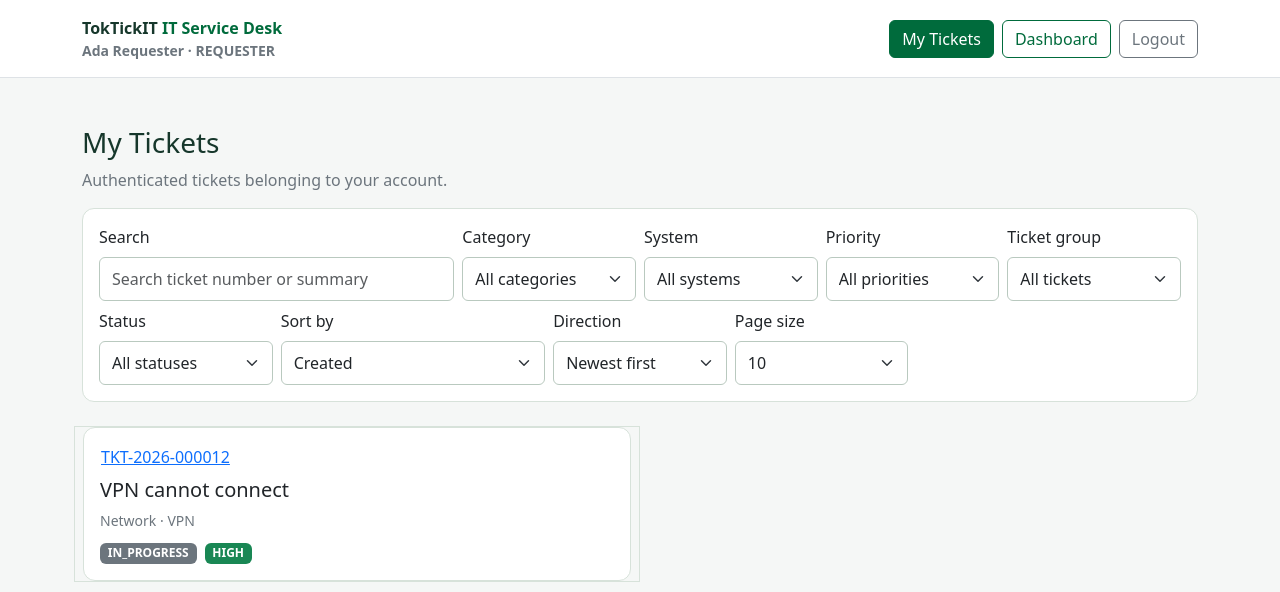
Test case: Lab 3 Requester interactions › records the resolution signal and shows the resulting state
The width and height of the screenshot is (1280, 592).
Click the button with aria-label "Open ticket TKT-2026-000012": (165, 457) [100, 444, 231, 470]
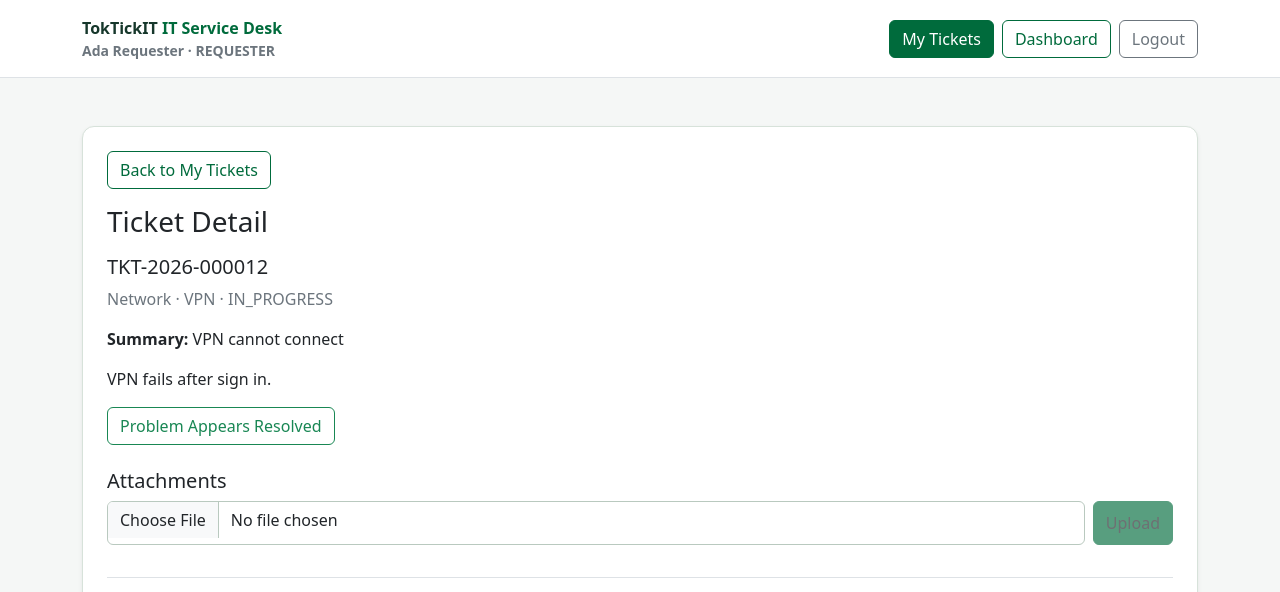
Click the button "Problem Appears Resolved": (221, 426) [107, 407, 334, 445]
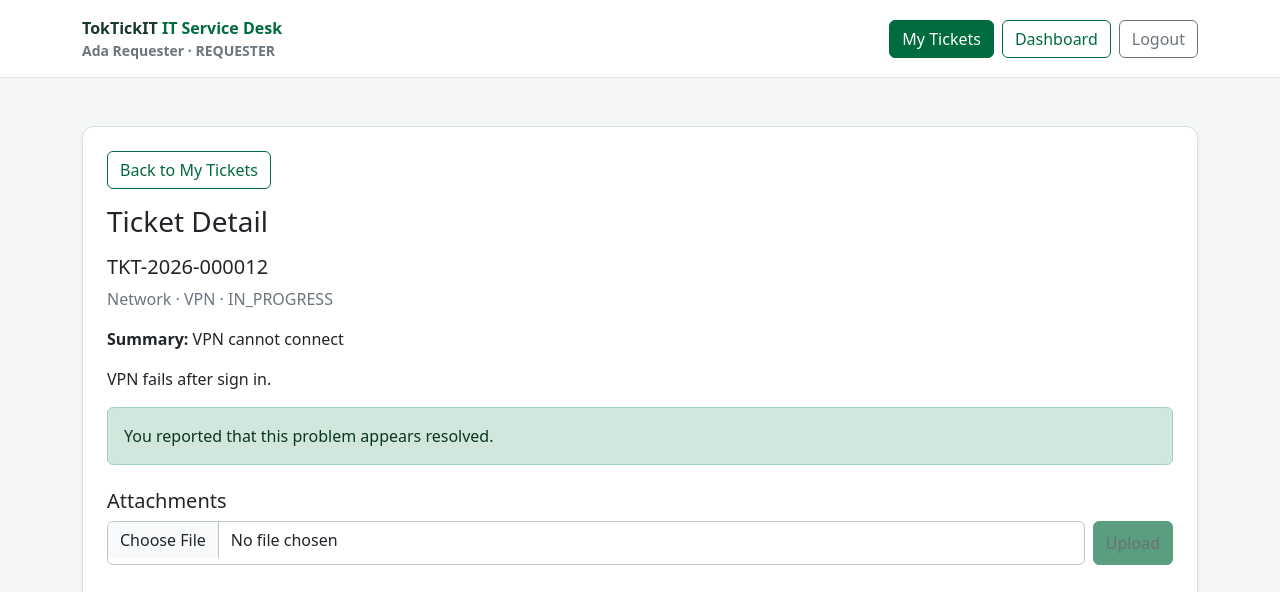
Expected: the message reads "You reported that this problem appears resolved.", [124, 425, 494, 447]
